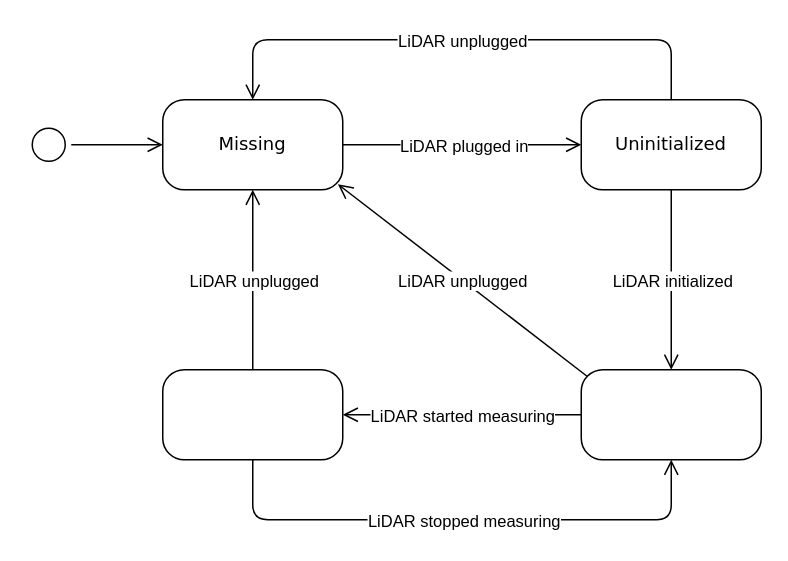
This 788x561 diagram has some shape labels left out. The shapes that lost their labels are listed below. From the top down, each one's centre as x and y in pixels, then its label:
the point at 252,414: Measuring
the point at 670,414: Initialized
